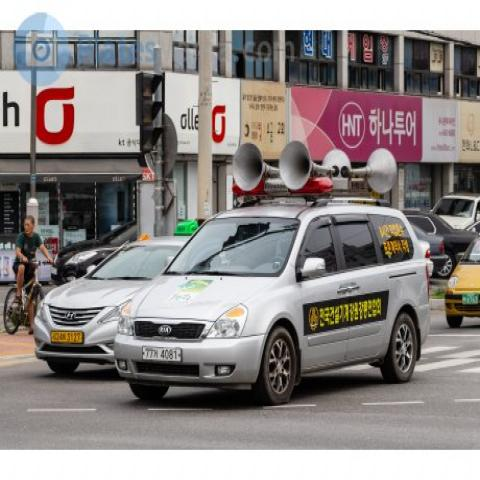LP: (137, 338, 187, 364)
